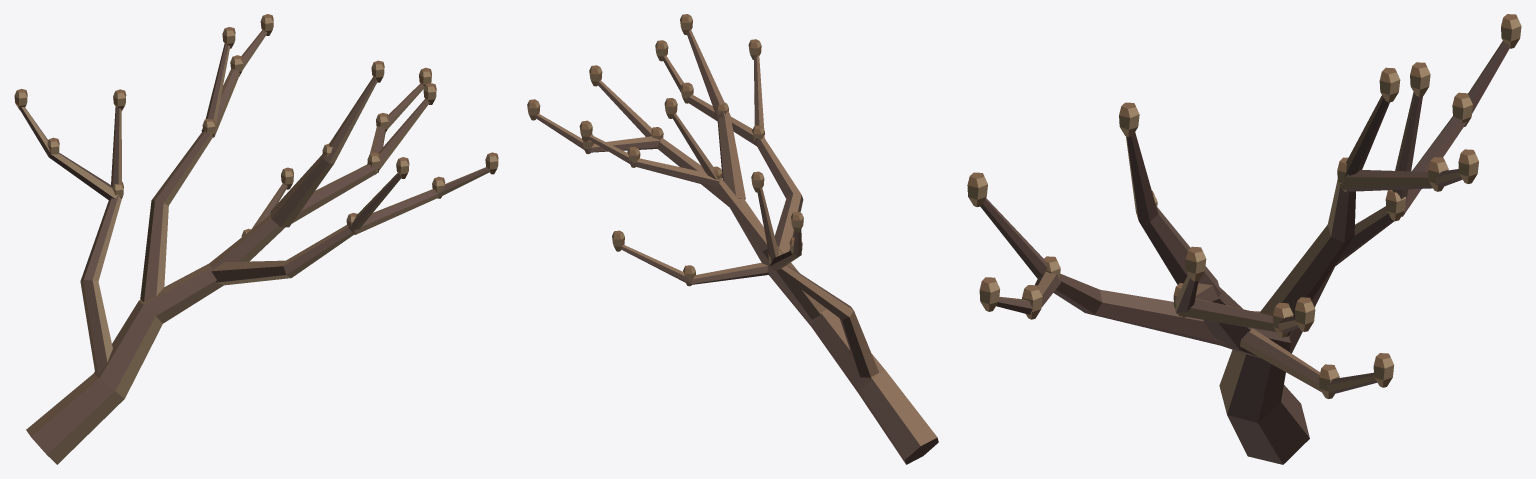
The model's file is apple_bough.glb.
3 renders of one model, left to right at view 1: azimuth 30°, elevation 25°; view 2: azimuth 150°, elevation 25°; view 3: azimuth 270°, elevation 25°, orthographic. The views are drawn at different scales.
Visible parts, largest first — view 1: apple_bough; view 2: apple_bough; view 3: apple_bough.
Part boxes in pixels (x1,y1,x2,y2): apple_bough: (14,14,498,464); apple_bough: (527,14,938,464); apple_bough: (967,14,1521,464).
Size of the model in its own units: 1.24 by 1.04 by 0.9141.
